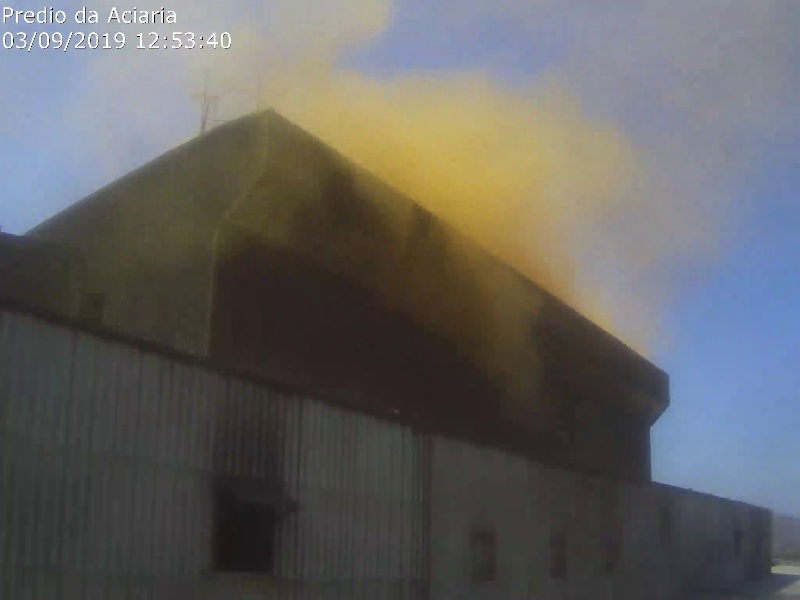pessimo: (171, 2, 705, 402)
